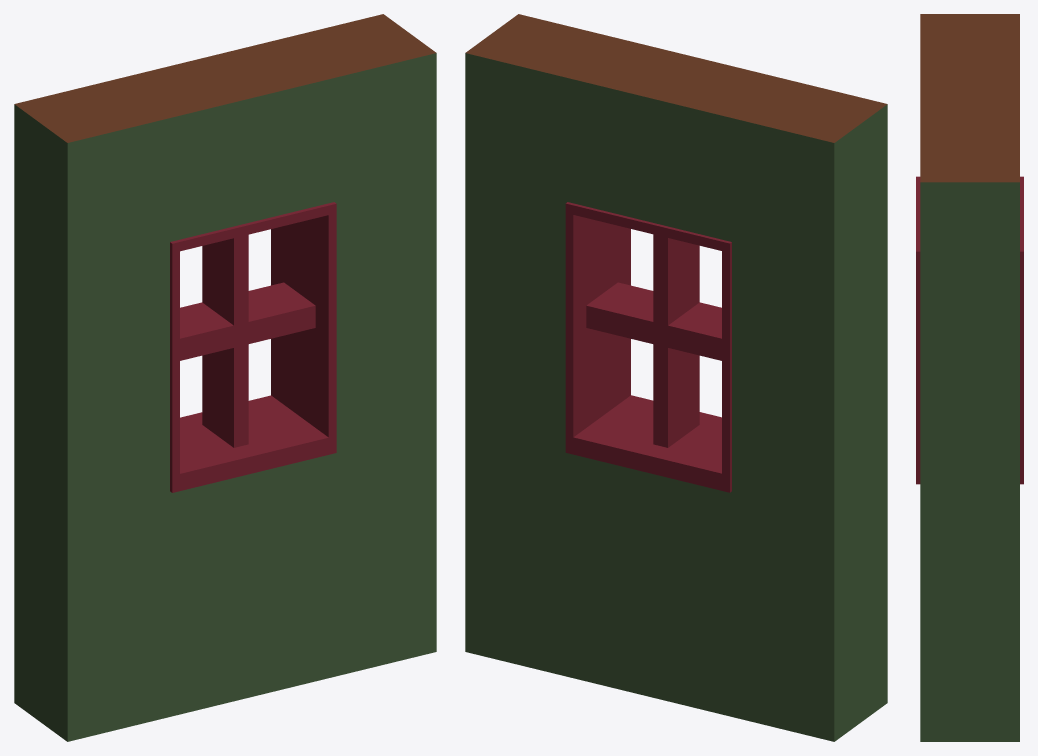
Rendered from SmallWindow_01.fbx.
3 views of the same model, side by side, from view 1: azimuth 30°, elevation 25°; view 2: azimuth 150°, elevation 25°; view 3: azimuth 270°, elevation 25° (orthographic). The views are drawn at different scales.
Visible parts, largest first — view 1: SmallWindow_02; view 2: SmallWindow_02; view 3: SmallWindow_02.
Boxes of the visible parts, x1,y1,x2,y2 form: SmallWindow_02: [14, 14, 436, 741]; SmallWindow_02: [465, 14, 887, 741]; SmallWindow_02: [916, 14, 1023, 741].
Bounding box in the file's own units: 200 × 310 × 54.11.
